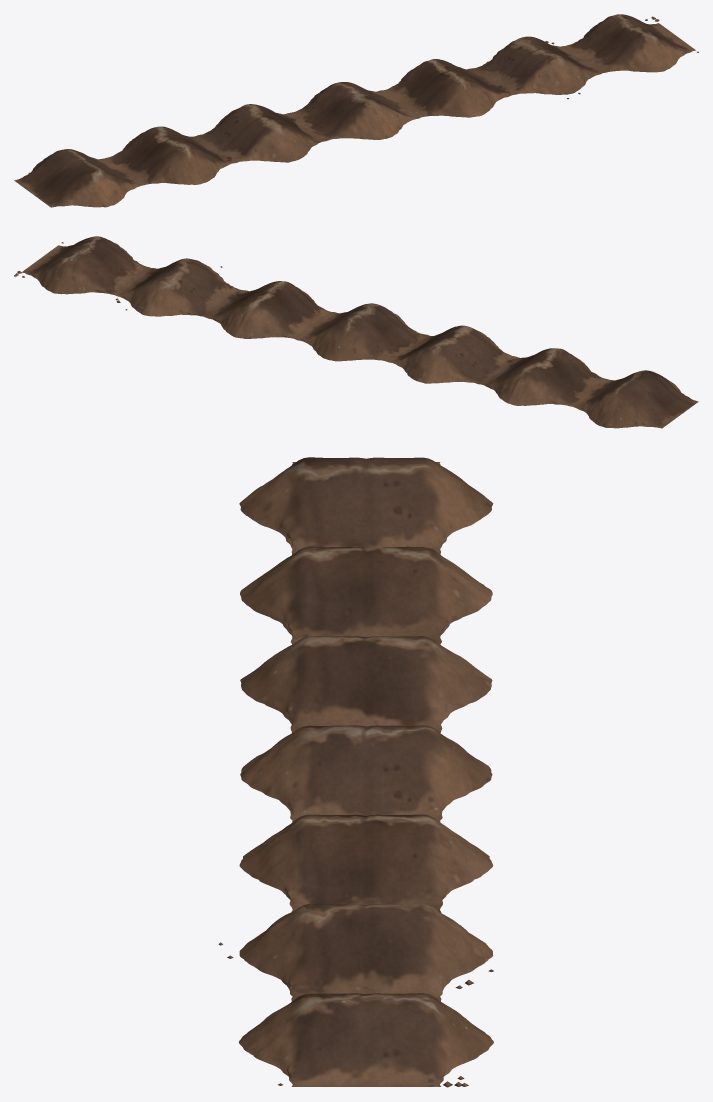
The model's file is DR_Prop_Whoops.fbx.
3 views of the same model, one above another, from view 1: azimuth 30°, elevation 25°; view 2: azimuth 150°, elevation 25°; view 3: azimuth 270°, elevation 25° (orthographic). The views are drawn at different scales.
Parts seen in each view (by area): view 1: DR_Prop_Whoops; view 2: DR_Prop_Whoops; view 3: DR_Prop_Whoops.
Boxes of the visible parts, x1,y1,x2,y2 form: DR_Prop_Whoops: [14, 14, 698, 207]; DR_Prop_Whoops: [14, 236, 698, 428]; DR_Prop_Whoops: [218, 457, 493, 1087].
Size of the model in its own units: 9.14 by 0.3035 by 1.7.
1 material, 1 textured.
